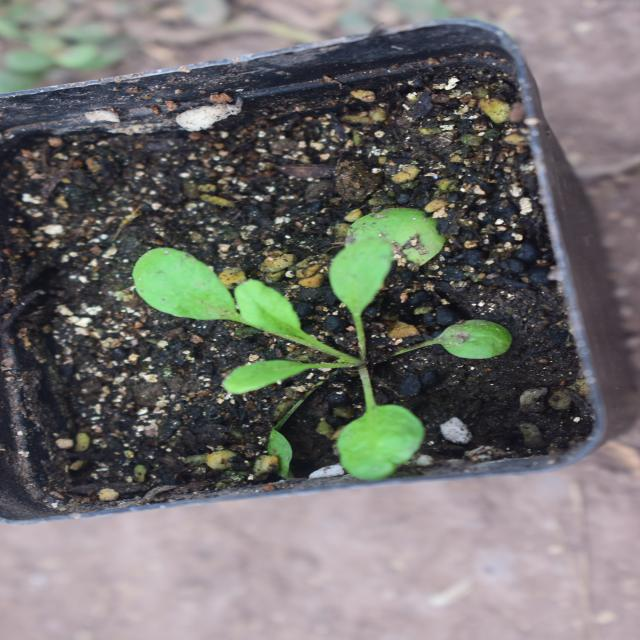Shepherd_Purse: (156, 128, 425, 492)
